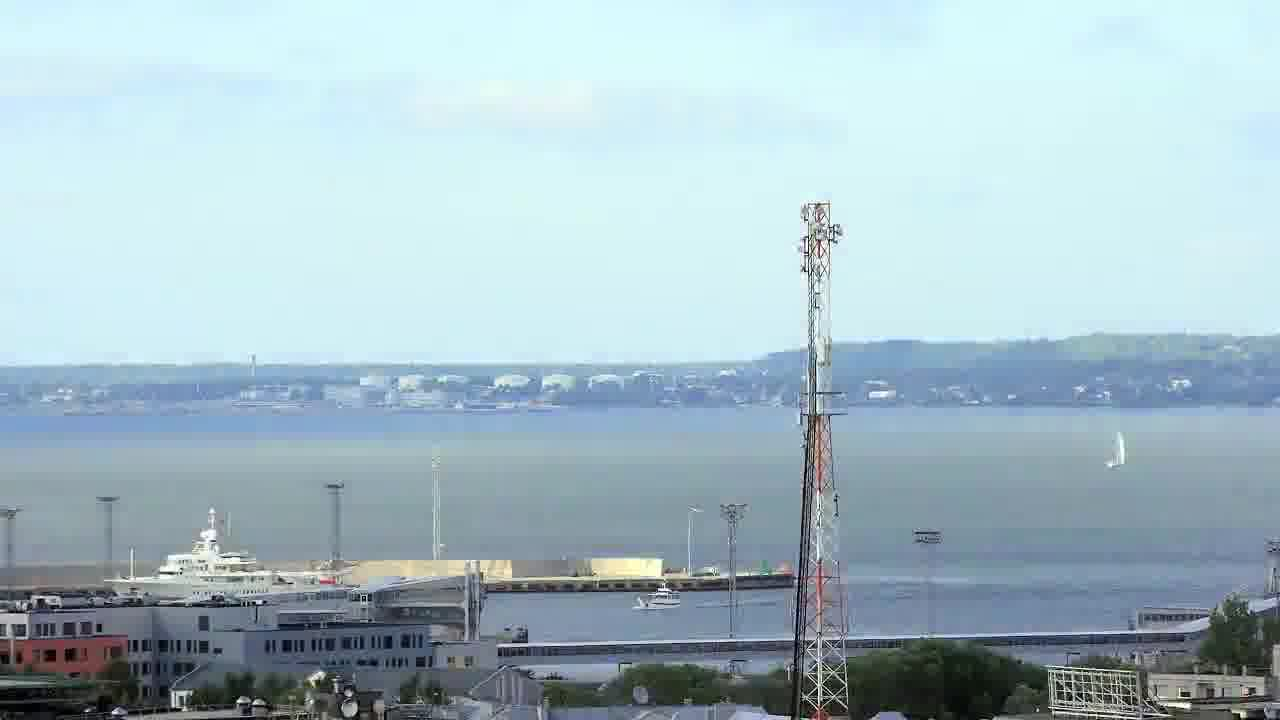type-1: (624, 557, 703, 618)
type-2: (1092, 416, 1152, 486)
type-3: (84, 515, 355, 603)
